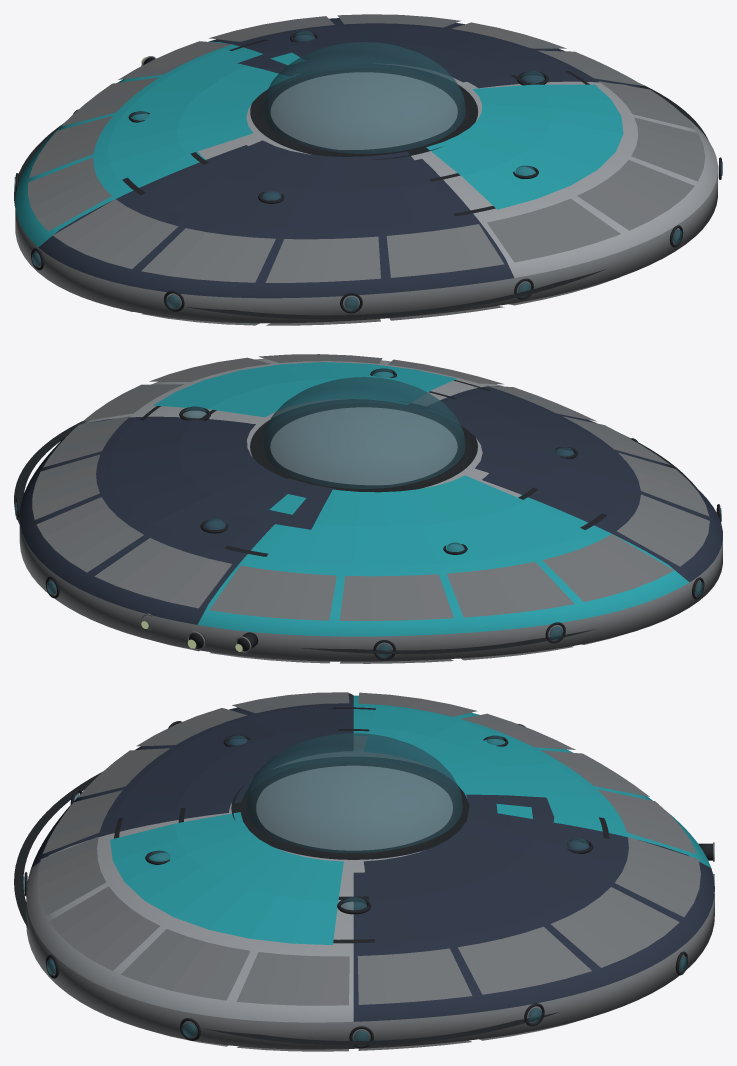
File: Ship_FlyingSaucer_772429.glb
3 renders of one model, top to bottom at view 1: azimuth 30°, elevation 25°; view 2: azimuth 150°, elevation 25°; view 3: azimuth 270°, elevation 25°, orthographic. The views are drawn at different scales.
Parts seen in each view (by area): view 1: Hull_LenticularThickDiscBody, PaintQuadrant_Top_03_LargePanel, CommandDomeGlass_CenteredFlattenedDome, PaintQuadrant_Top_04_LargePanel, PaintQuadrant_Top_02_LargePanel, PaintQuadrant_Top_01_LargePanel, RimArmorSegment_10_UpperHullPlate, RimArmorSegment_13_UpperHullPlate, RimArmorSegment_09_UpperHullPlate, RimArmorSegment_11_UpperHullPlate, RimArmorSegment_12_UpperHullPlate, RimArmorSegment_14_UpperHullPlate (+14 smaller); view 2: Hull_LenticularThickDiscBody, PaintQuadrant_Top_02_LargePanel, CommandDomeGlass_CenteredFlattenedDome, PaintQuadrant_Top_01_LargePanel, PaintQuadrant_Top_03_LargePanel, PaintQuadrant_Top_04_LargePanel, RimArmorSegment_04_UpperHullPlate, RimArmorSegment_05_UpperHullPlate, RimArmorSegment_08_UpperHullPlate, RimArmorSegment_07_UpperHullPlate, RimArmorSegment_06_UpperHullPlate, RimArmorSegment_03_UpperHullPlate (+14 smaller); view 3: Hull_LenticularThickDiscBody, CommandDomeGlass_CenteredFlattenedDome, PaintQuadrant_Top_04_LargePanel, PaintQuadrant_Top_01_LargePanel, PaintQuadrant_Top_03_LargePanel, PaintQuadrant_Top_02_LargePanel, RimArmorSegment_15_UpperHullPlate, RimArmorSegment_02_UpperHullPlate, RimArmorSegment_03_UpperHullPlate, RimArmorSegment_16_UpperHullPlate, RimArmorSegment_01_UpperHullPlate, RimArmorSegment_14_UpperHullPlate (+14 smaller).
Boxes of the visible parts, x1,y1,x2,y2 form: Hull_LenticularThickDiscBody: (15, 18, 717, 323); PaintQuadrant_Top_03_LargePanel: (138, 140, 455, 229); CommandDomeGlass_CenteredFlattenedDome: (262, 42, 465, 153); PaintQuadrant_Top_04_LargePanel: (426, 84, 623, 209); PaintQuadrant_Top_02_LargePanel: (108, 49, 299, 180); PaintQuadrant_Top_01_LargePanel: (264, 25, 572, 82); RimArmorSegment_10_UpperHullPlate: (141, 228, 275, 282); RimArmorSegment_13_UpperHullPlate: (487, 198, 620, 262); RimArmorSegment_09_UpperHullPlate: (53, 199, 178, 268); RimArmorSegment_11_UpperHullPlate: (265, 236, 380, 282); RimArmorSegment_12_UpperHullPlate: (386, 224, 504, 277); RimArmorSegment_14_UpperHullPlate: (577, 160, 694, 230); Hull_LenticularThickDiscBody: (19, 358, 722, 661); PaintQuadrant_Top_02_LargePanel: (265, 475, 587, 565); CommandDomeGlass_CenteredFlattenedDome: (262, 377, 465, 488); PaintQuadrant_Top_01_LargePanel: (110, 420, 287, 550); PaintQuadrant_Top_03_LargePanel: (427, 390, 625, 516); PaintQuadrant_Top_04_LargePanel: (153, 362, 456, 417); RimArmorSegment_04_UpperHullPlate: (94, 538, 231, 608); RimArmorSegment_05_UpperHullPlate: (209, 565, 336, 620); RimArmorSegment_08_UpperHullPlate: (542, 534, 674, 601); RimArmorSegment_07_UpperHullPlate: (447, 562, 574, 617); RimArmorSegment_06_UpperHullPlate: (339, 574, 453, 620); RimArmorSegment_03_UpperHullPlate: (36, 497, 143, 572); Hull_LenticularThickDiscBody: (26, 695, 714, 1049); CommandDomeGlass_CenteredFlattenedDome: (244, 733, 462, 853); PaintQuadrant_Top_04_LargePanel: (110, 812, 343, 945); PaintQuadrant_Top_01_LargePanel: (363, 817, 613, 944); PaintQuadrant_Top_03_LargePanel: (115, 705, 342, 818); PaintQuadrant_Top_02_LargePanel: (364, 706, 608, 818); RimArmorSegment_15_UpperHullPlate: (121, 929, 250, 1000); RimArmorSegment_02_UpperHullPlate: (458, 926, 591, 994); RimArmorSegment_03_UpperHullPlate: (551, 887, 679, 967); RimArmorSegment_16_UpperHullPlate: (236, 952, 349, 1005); RimArmorSegment_01_UpperHullPlate: (357, 948, 472, 1004); RimArmorSegment_14_UpperHullPlate: (49, 886, 159, 970).
Bounding box in the file's own units: 5.63 × 1.68 × 4.99.
